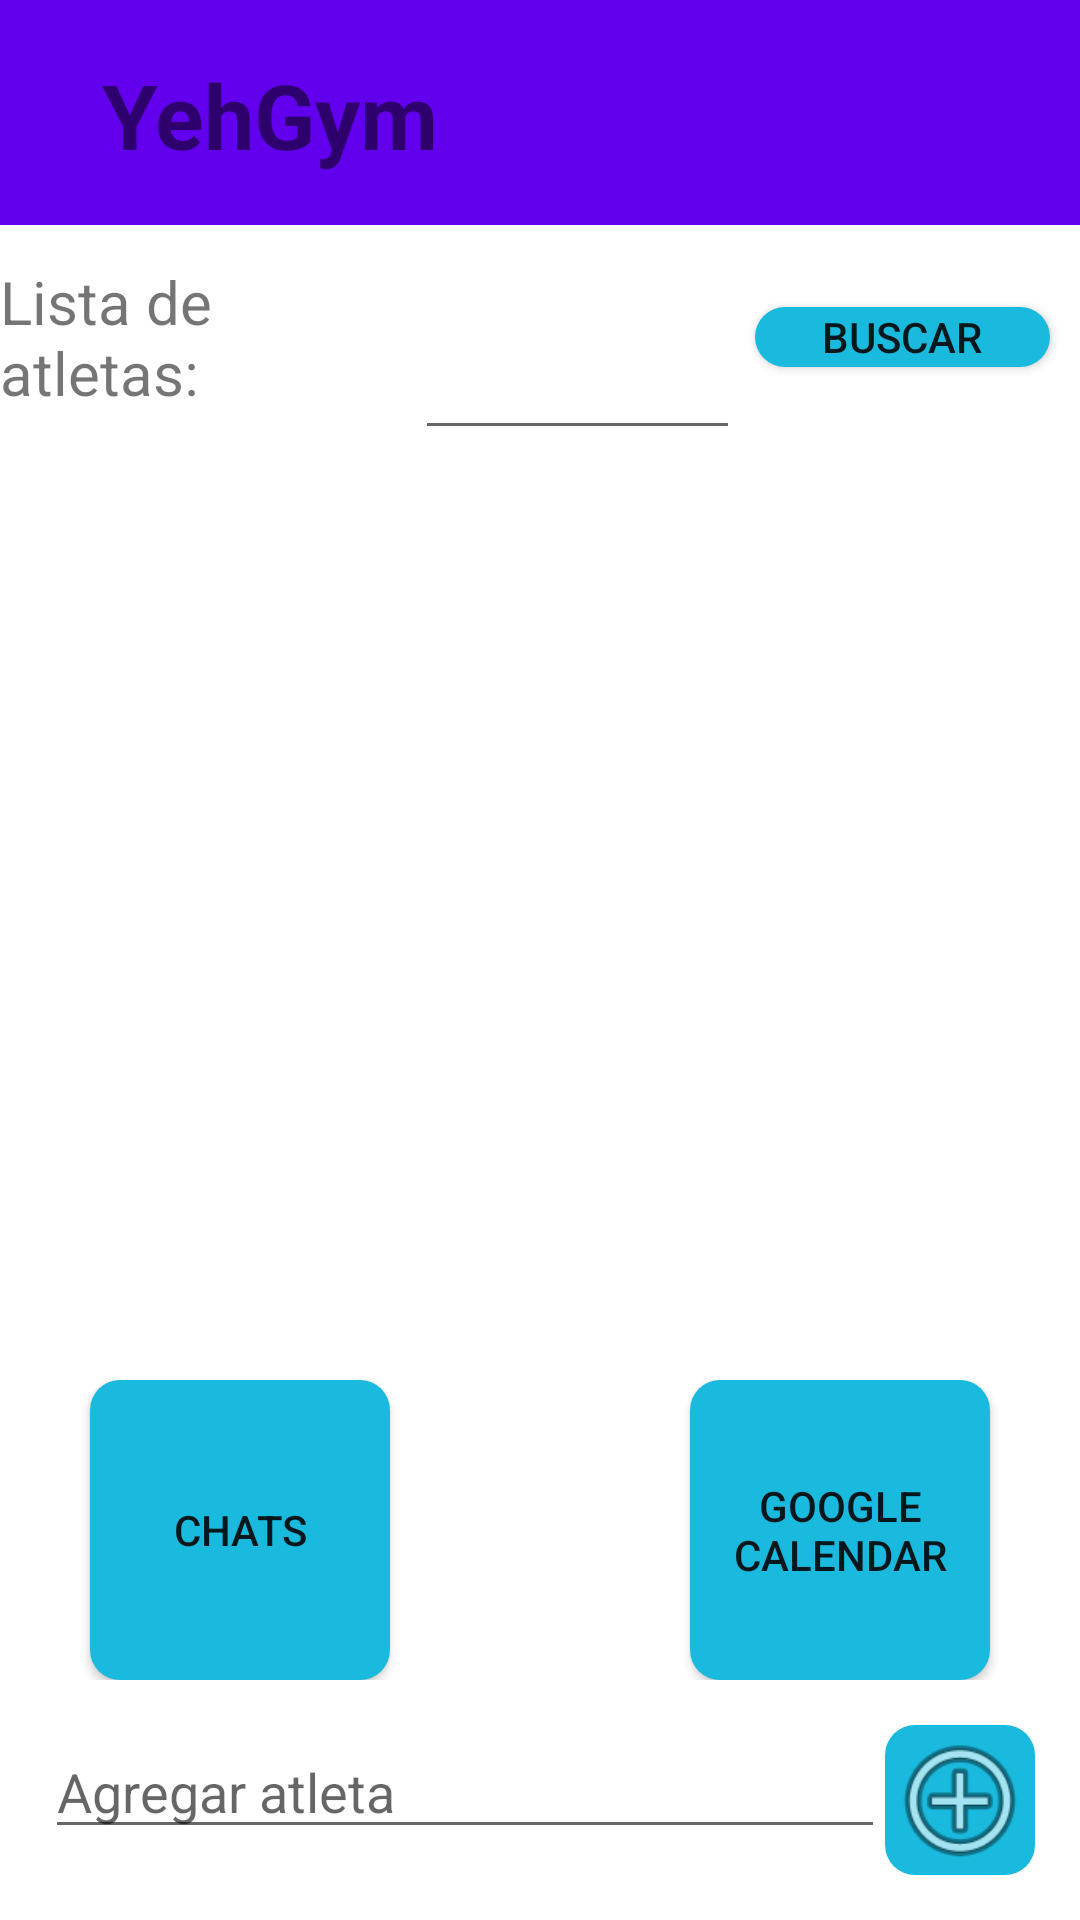

Icons on this 1080 x 1920 Android screen, each with the point to tap as (x,y):
add: (960,1800)
